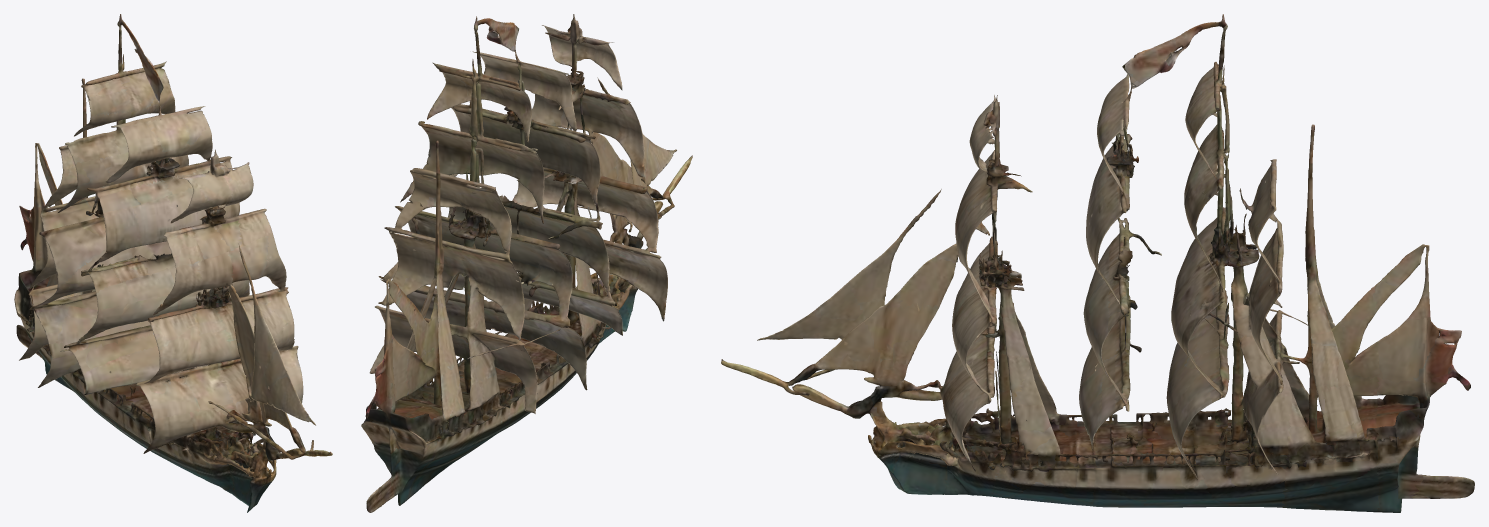
Rendered from ship-backup.glb.
3 renders of one model, left to right at view 1: azimuth 30°, elevation 25°; view 2: azimuth 150°, elevation 25°; view 3: azimuth 270°, elevation 25°, orthographic. The views are drawn at different scales.
Visible parts, largest first — view 1: Mesh_0; view 2: Mesh_0; view 3: Mesh_0.
Boxes of the visible parts, box(x1,y1,x2,y2) form: Mesh_0: box(14, 14, 332, 512); Mesh_0: box(361, 14, 692, 512); Mesh_0: box(721, 14, 1474, 512).
Size of the model in its own units: 75461 by 154409 by 211607.
Materials: 1 (1 with a texture image).
